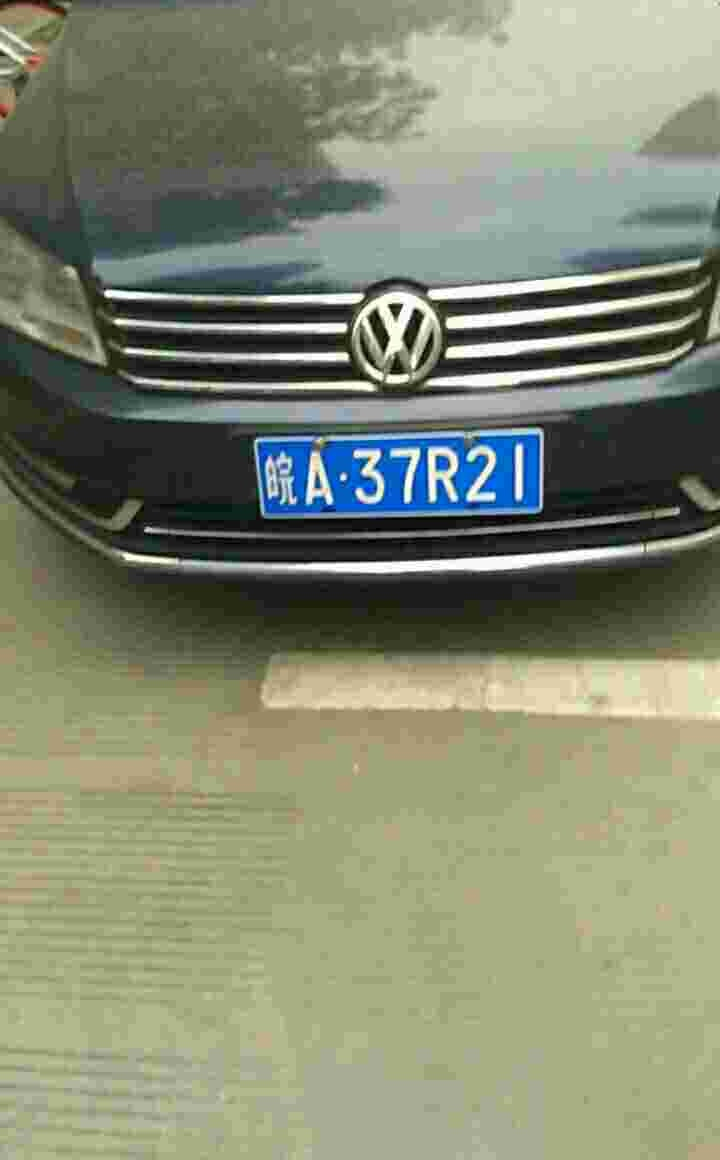license_plate: (254, 441, 548, 520)
